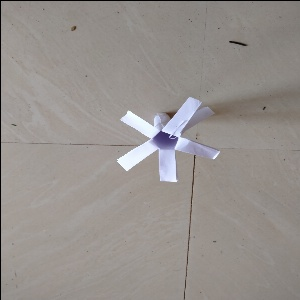weed: (114, 101, 227, 176)
